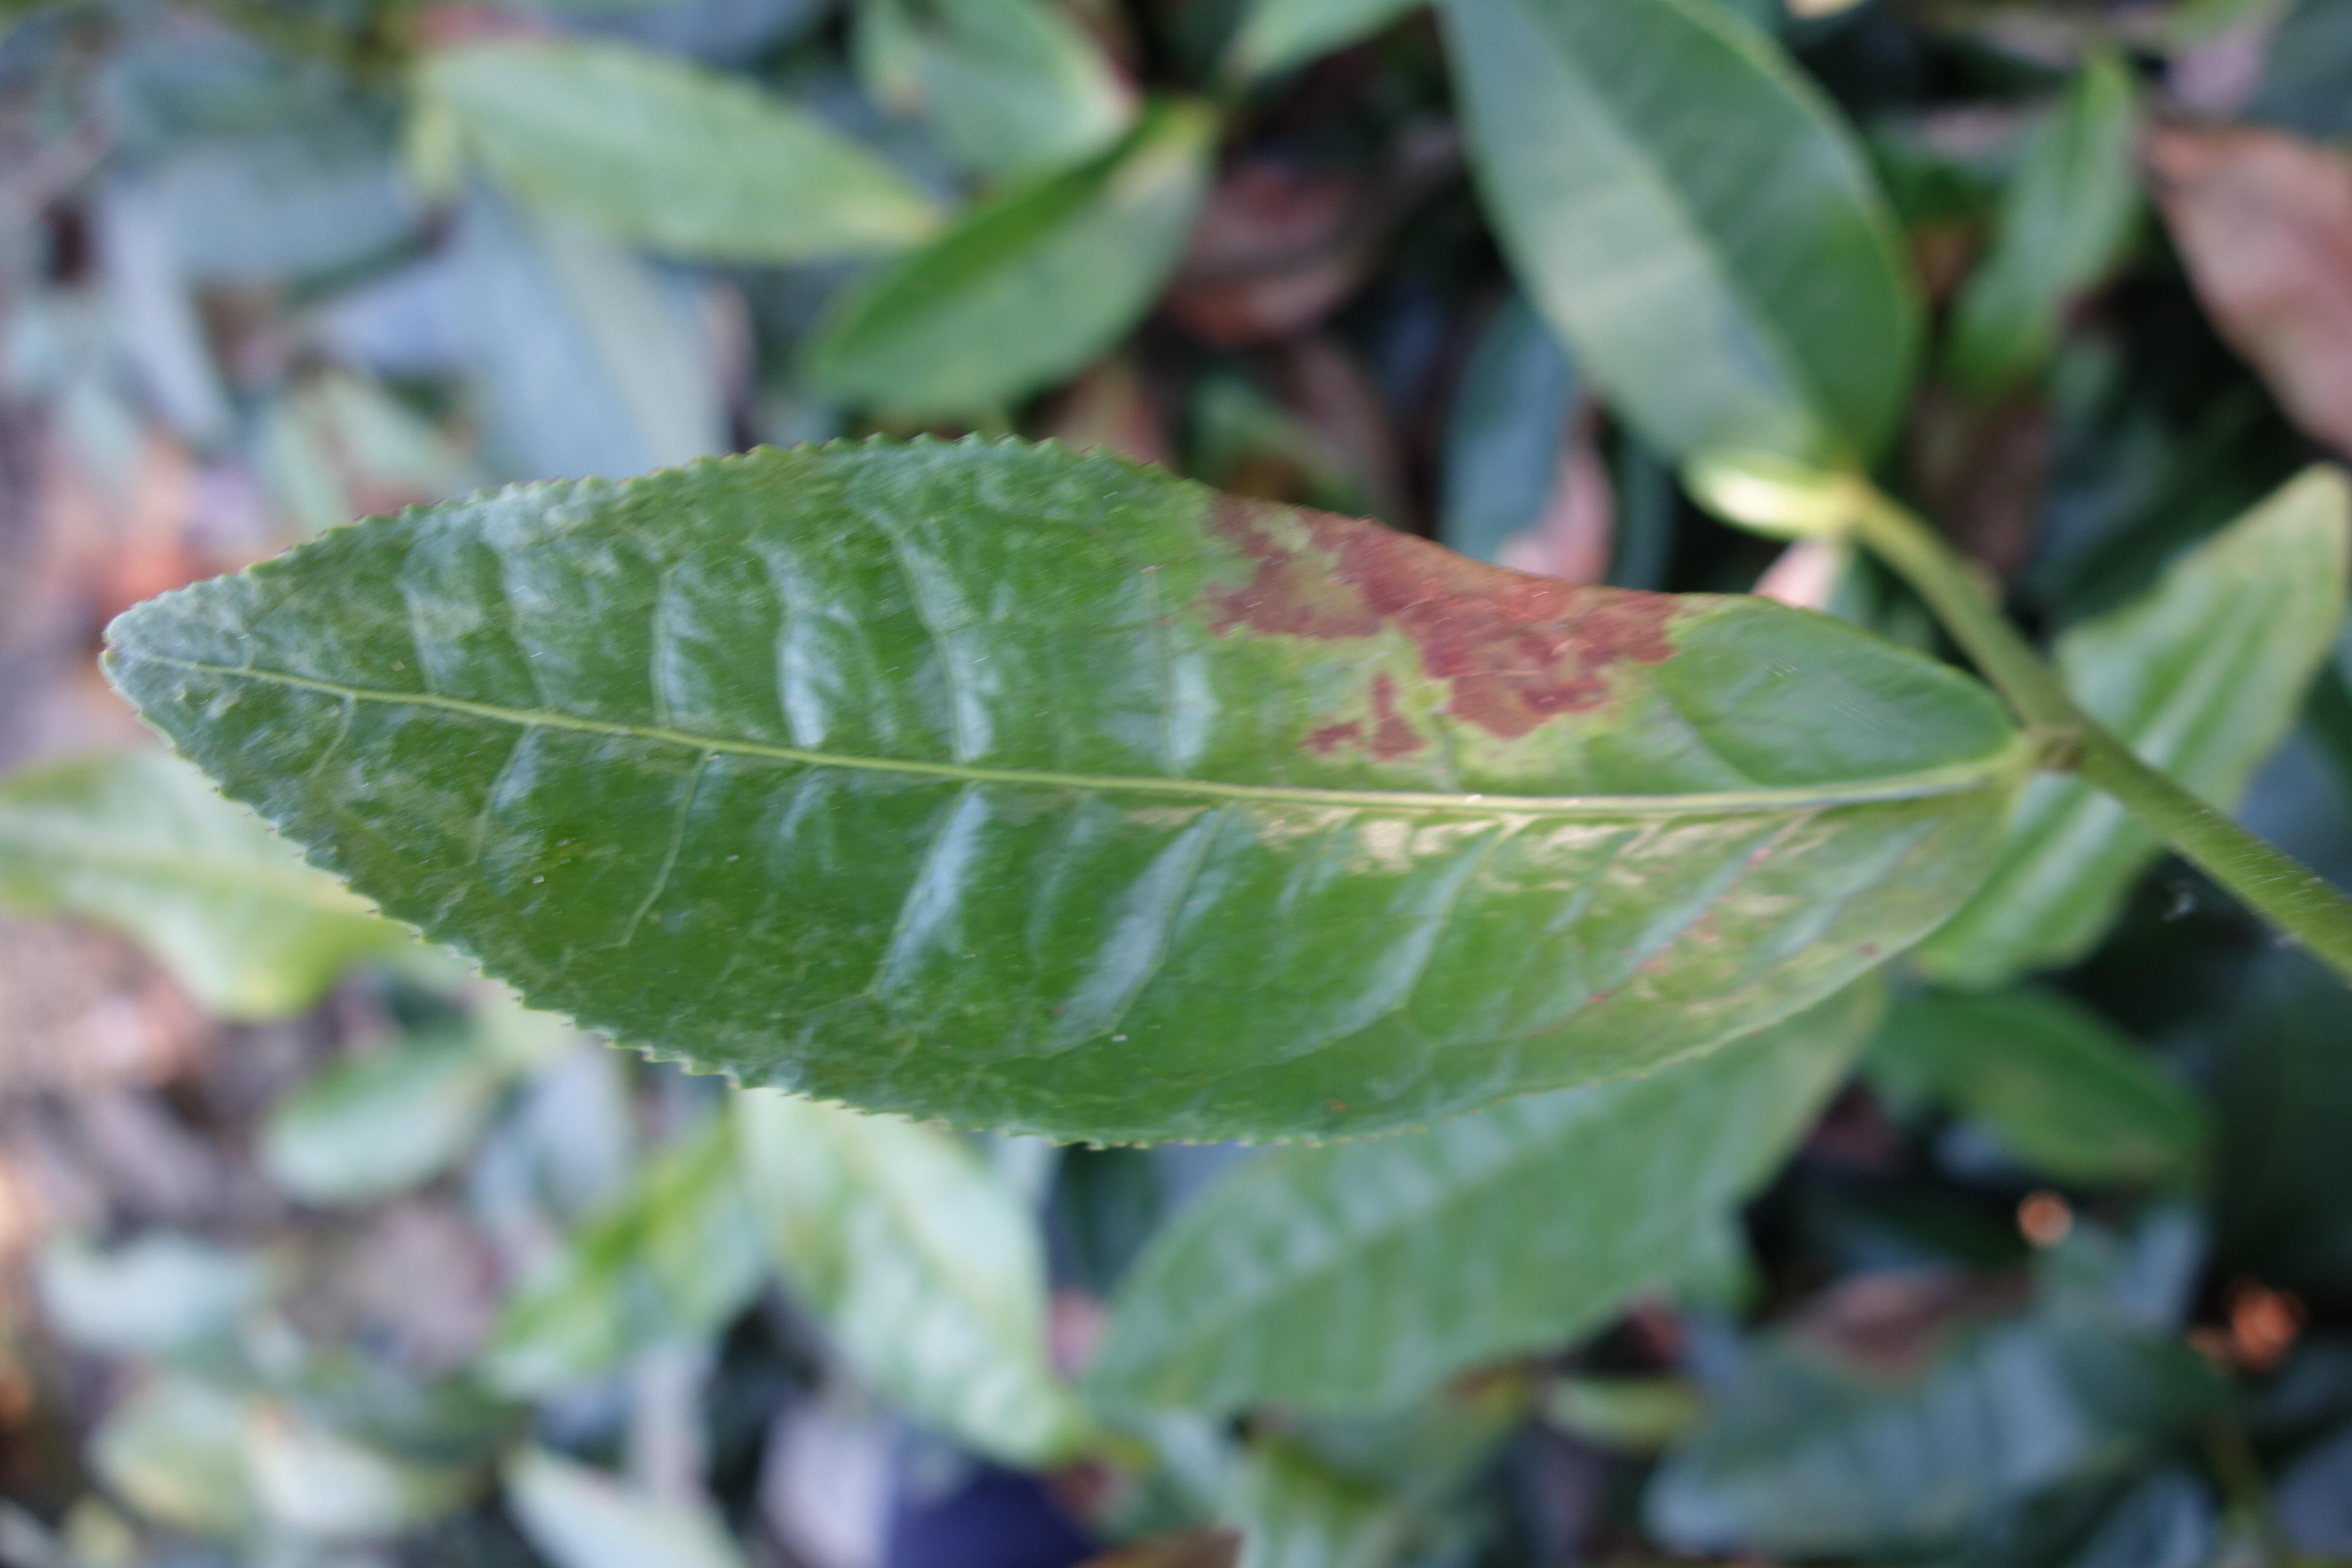tanju_high: (96, 427, 2035, 1151)
